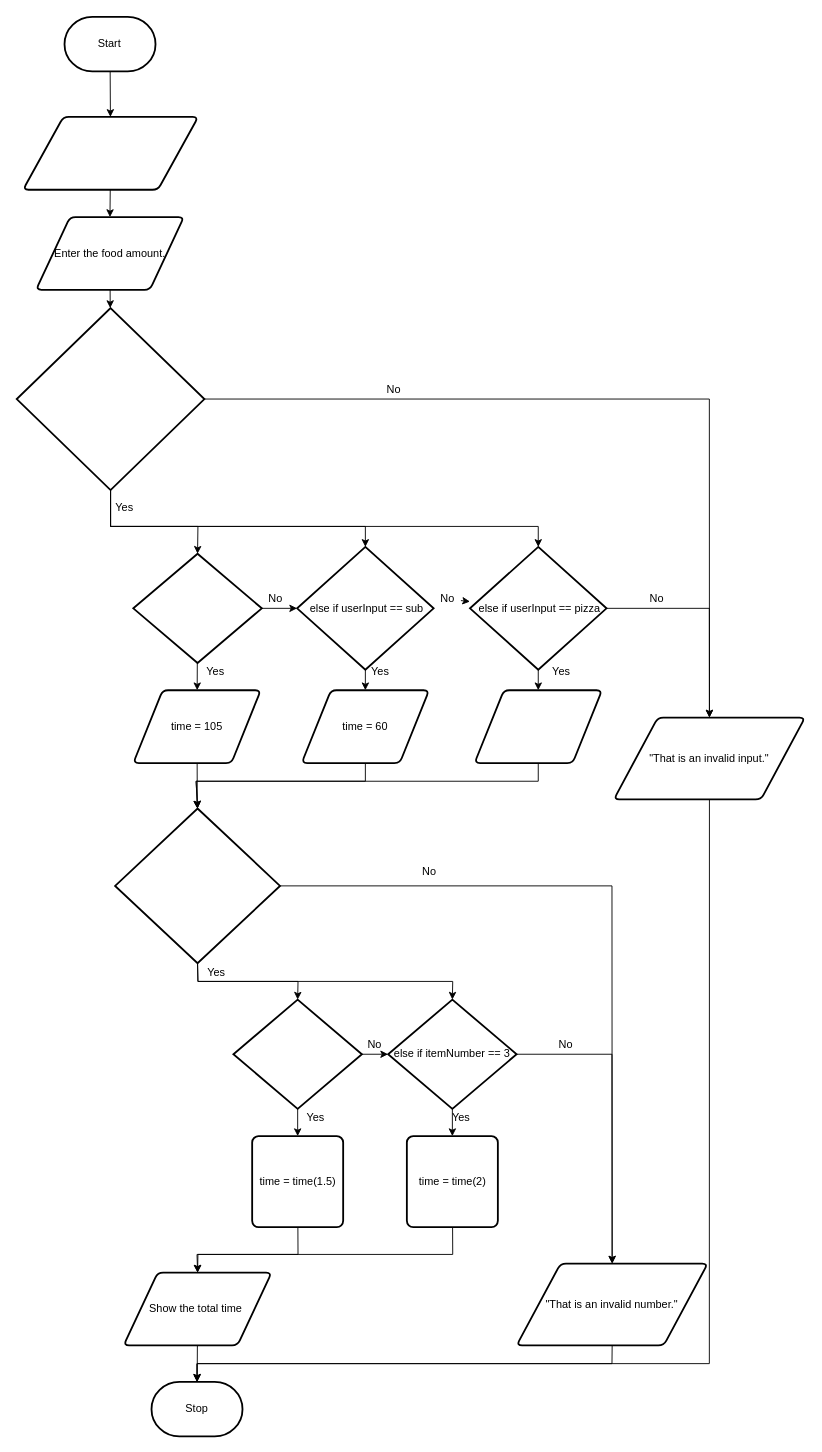
Image size: 822x1452. Some labels were removed from this diagram. Each missing label, with the centre of its shape:
"Enter sub, soup, or pizza." goes at point (110, 153).
"if i temNumber == 1 || itemNumber == 2 || itemNumber == 3" goes at point (197, 885).
"if itemNumber == 2" goes at point (297, 1053).
"if userInput == soup" goes at point (197, 607).
"If userInput == soup || userInput == pizza || userInput == sub" goes at point (110, 398).
"time = 45" goes at point (537, 726).
